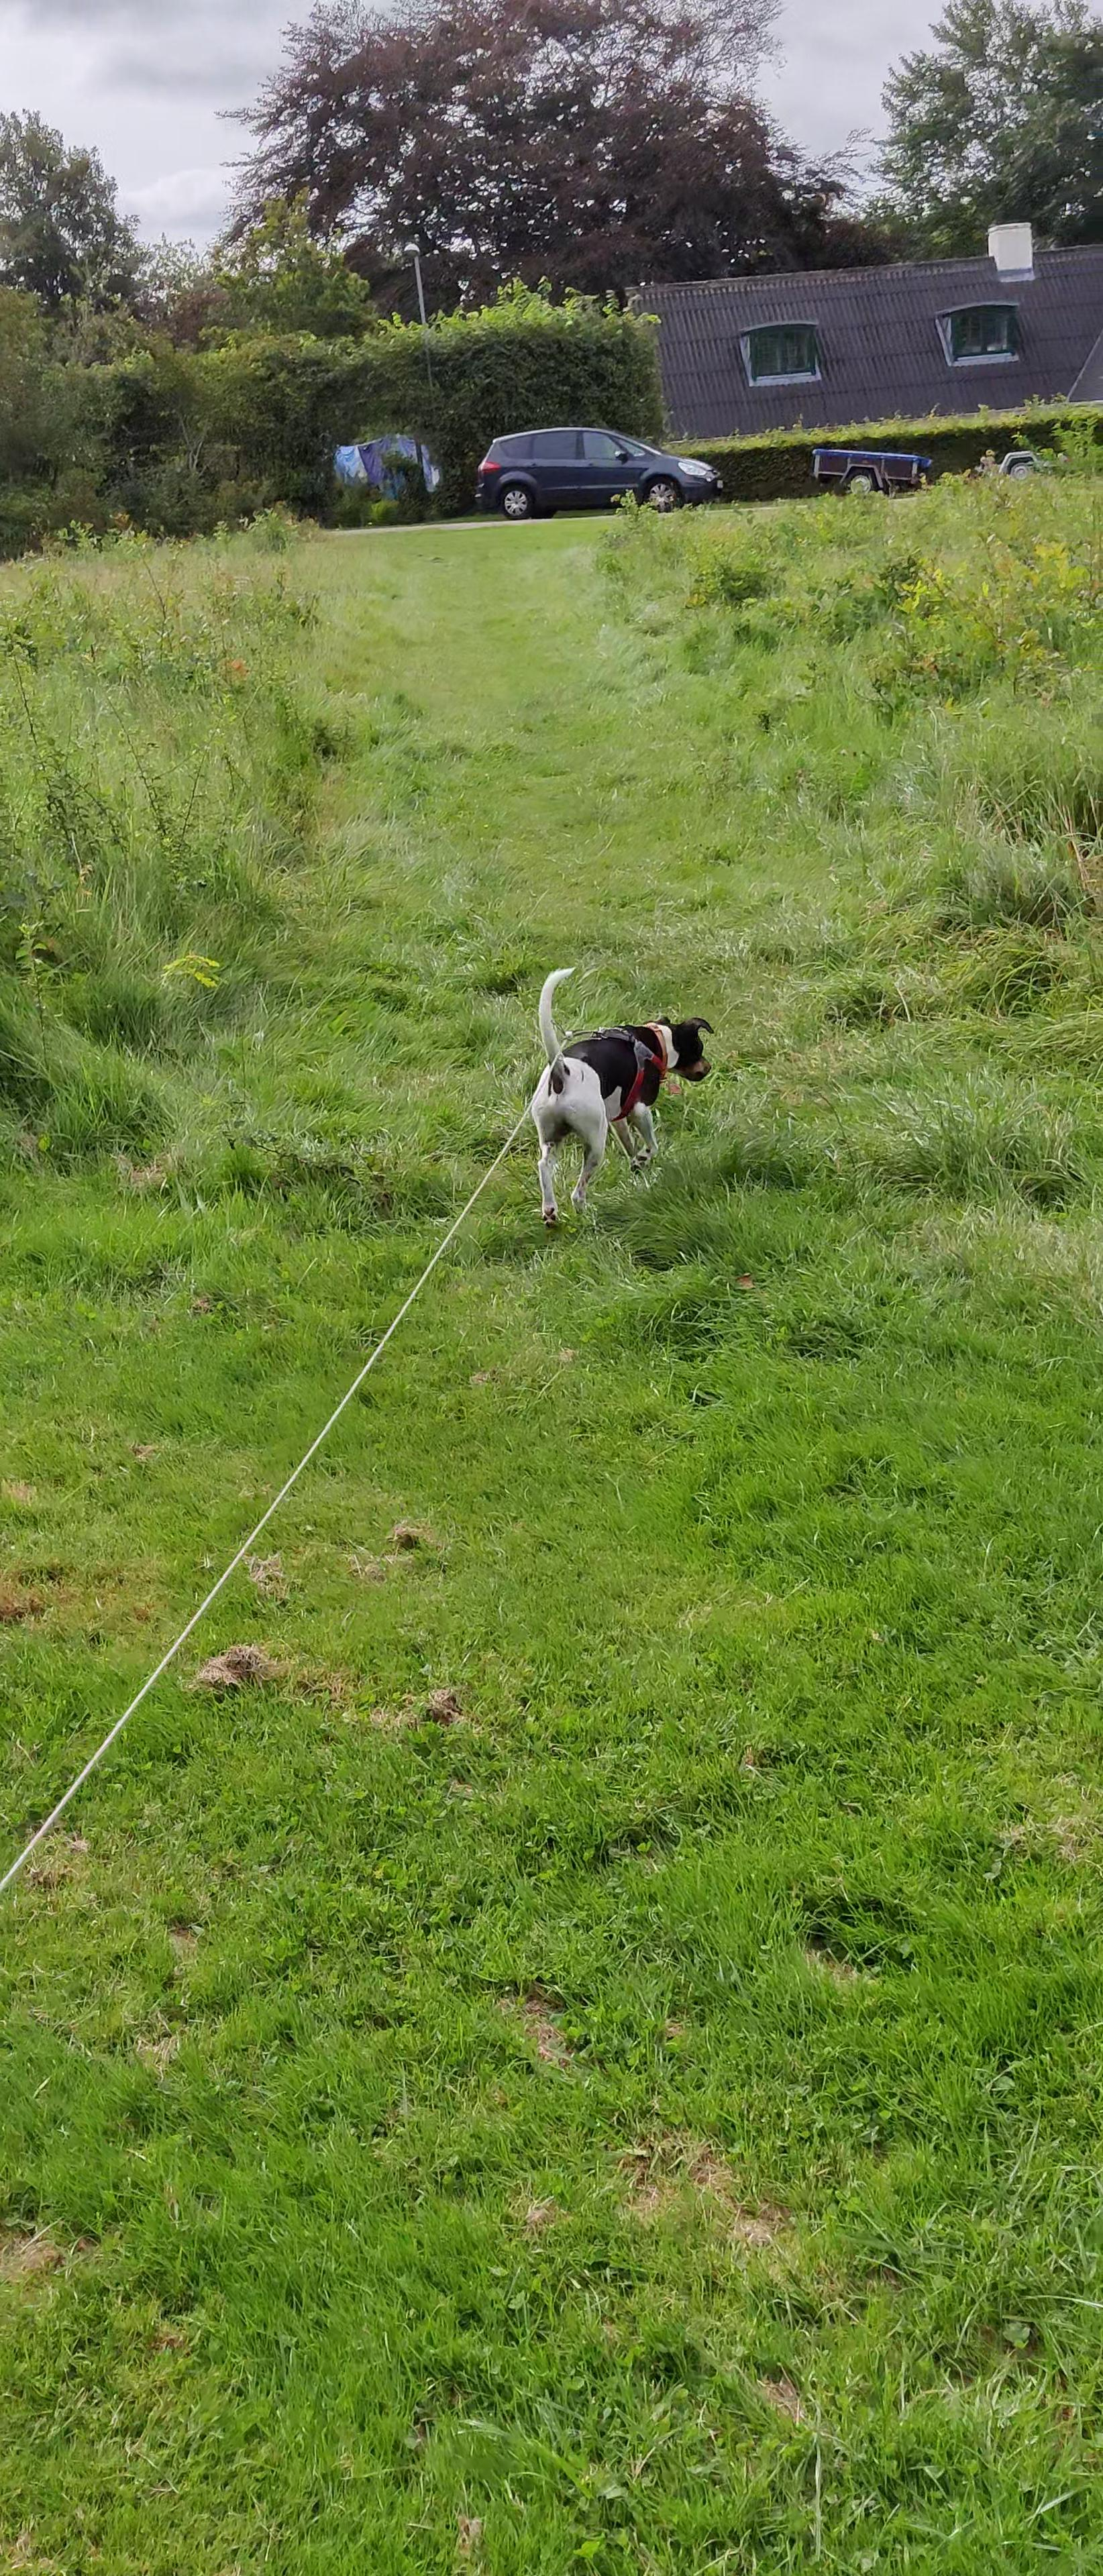Dog: (515, 953, 727, 1244)
